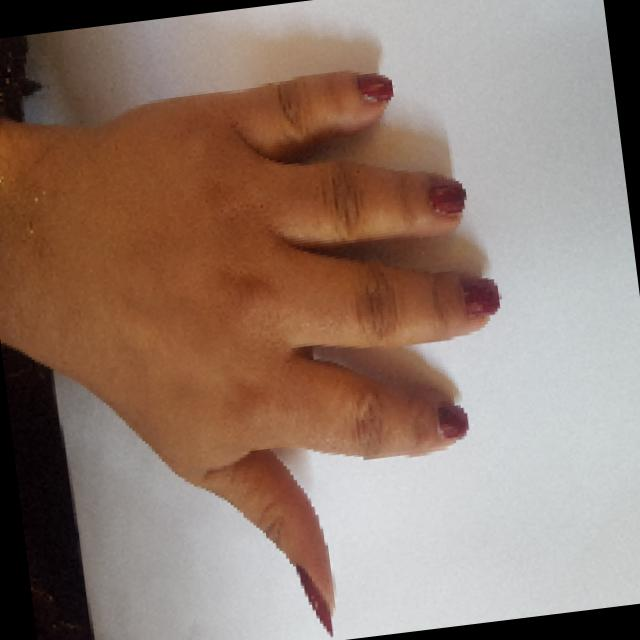Nail: (295, 563, 333, 634), (461, 277, 499, 316), (429, 178, 463, 212), (437, 403, 468, 439), (356, 72, 393, 100)
